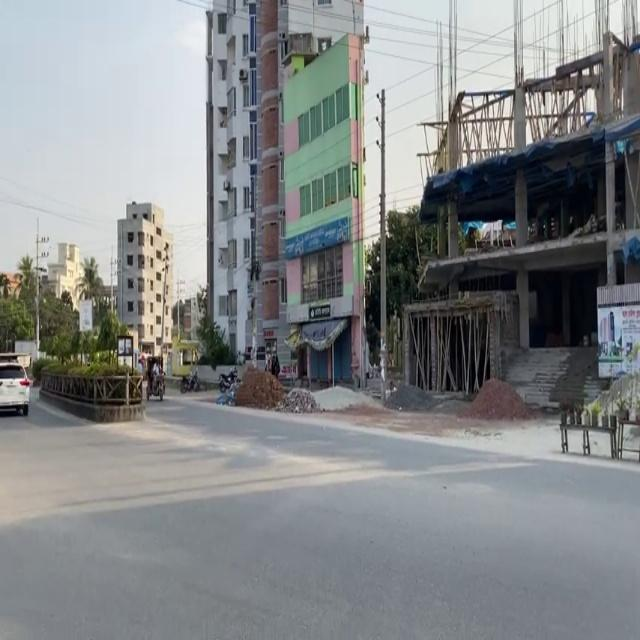Construction-barrier: (38, 387, 145, 422)
Fallen-tree: (215, 376, 241, 406), (146, 370, 165, 401), (217, 367, 238, 392), (179, 368, 199, 393)
Pole: (30, 330, 162, 432)
